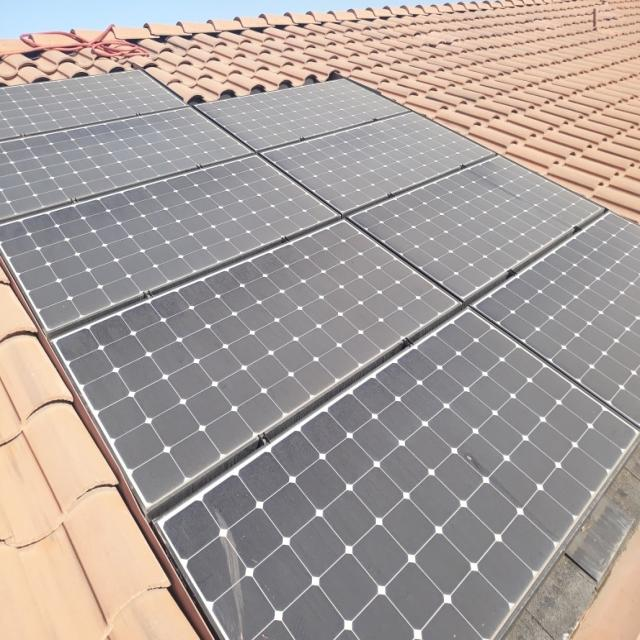dust-solar-panel: (0, 70, 640, 640)
